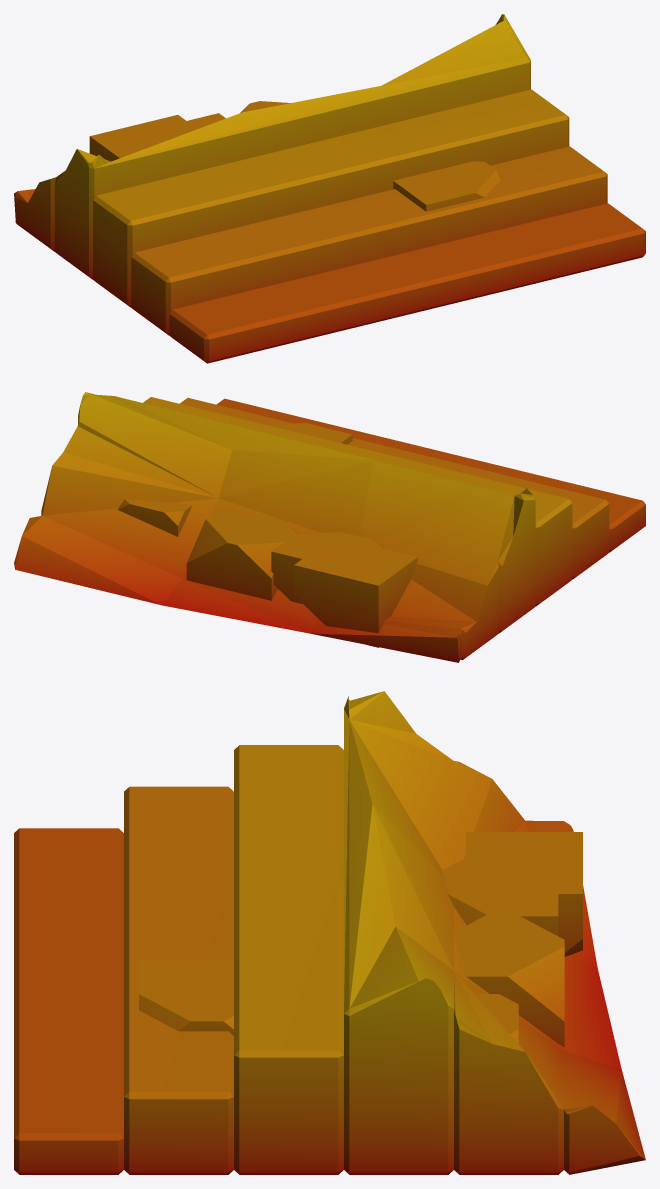
Rendered from steps_broken.glb.
The picture shows the model from 3 angles, top to bottom: view 1: azimuth 30°, elevation 25°; view 2: azimuth 150°, elevation 25°; view 3: azimuth 270°, elevation 25°; orthographic projection. The views are drawn at different scales.
Visible parts, largest first — view 1: steps_broken; view 2: steps_broken; view 3: steps_broken.
Boxes of the visible parts, x1,y1,x2,y2 form: steps_broken: (14,14,645,363); steps_broken: (14,392,645,662); steps_broken: (14,691,645,1174).
Size of what is drawn, in the model's own units: 4 by 1.2 by 3.45.
